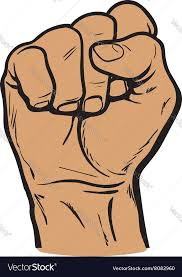fist: (13, 7, 175, 187)
